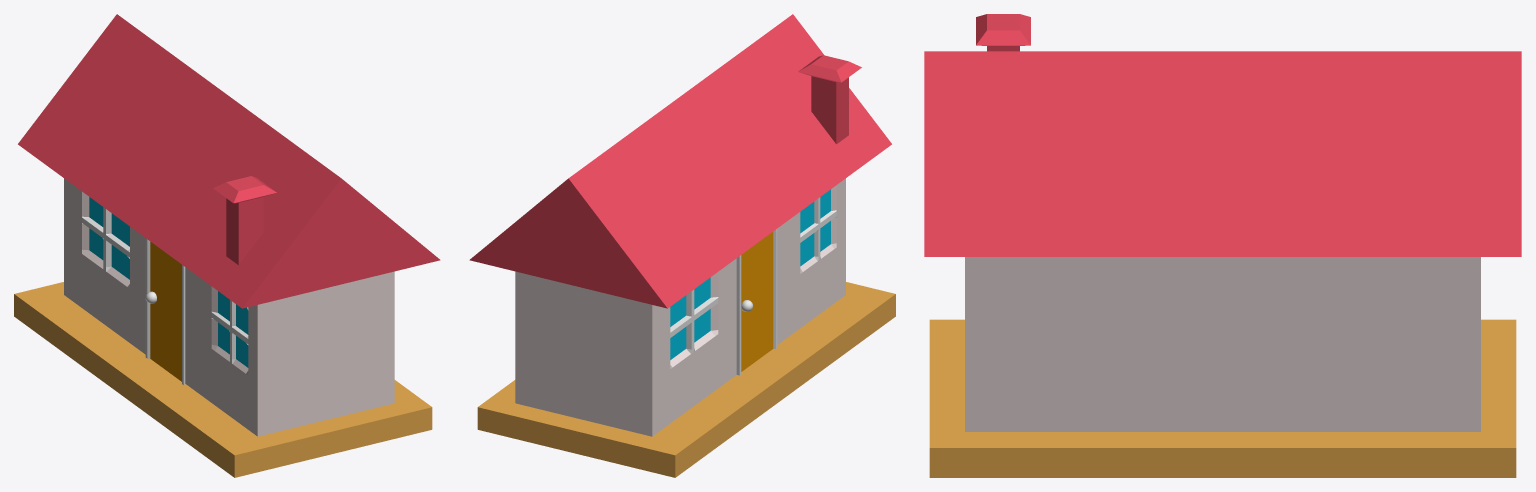
The model's file is house.fbx.
3 renders of one model, left to right at view 1: azimuth 30°, elevation 25°; view 2: azimuth 150°, elevation 25°; view 3: azimuth 270°, elevation 25°, orthographic. The views are drawn at different scales.
Visible parts, largest first — view 1: Cube.001, Cube, Cube.004, Cube.003, Cube.002; view 2: Cube.001, Cube, Cube.004, Cube.003, Cube.002; view 3: Cube.001, Cube, Cube.004, Cube.002.
Part boxes in pixels (x1,y1,x2,y2): Cube.001: [18, 14, 440, 308]; Cube: [64, 178, 394, 436]; Cube.004: [14, 282, 432, 477]; Cube.003: [145, 238, 185, 384]; Cube.002: [213, 176, 276, 264]; Cube.001: [469, 14, 891, 308]; Cube: [515, 178, 845, 436]; Cube.004: [477, 282, 895, 477]; Cube.003: [736, 228, 777, 375]; Cube.002: [798, 55, 861, 144]; Cube.001: [924, 51, 1521, 256]; Cube: [965, 257, 1480, 431]; Cube.004: [929, 319, 1516, 477]; Cube.002: [976, 14, 1030, 51].
Size of the model in its own units: 953 by 1229 by 1816.
